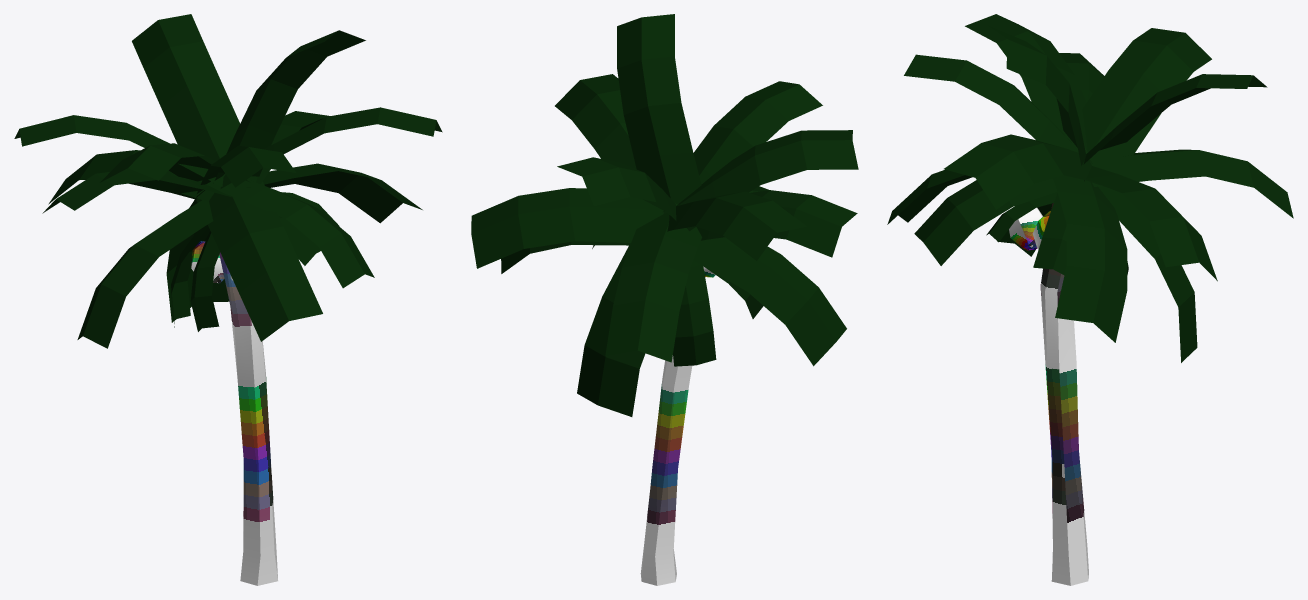
The model's file is CoconutPalmfluffy_03.fbx.
3 views of the same model, side by side, from view 1: azimuth 30°, elevation 25°; view 2: azimuth 150°, elevation 25°; view 3: azimuth 270°, elevation 25° (orthographic). The views are drawn at different scales.
Visible parts, largest first — view 1: PalmFluffy_03; view 2: PalmFluffy_03; view 3: PalmFluffy_03.
Part boxes in pixels (x1,y1,x2,y2): PalmFluffy_03: [14, 14, 442, 585]; PalmFluffy_03: [471, 14, 858, 585]; PalmFluffy_03: [887, 14, 1293, 585].
Size of the model in its own units: 229 by 342 by 224.
